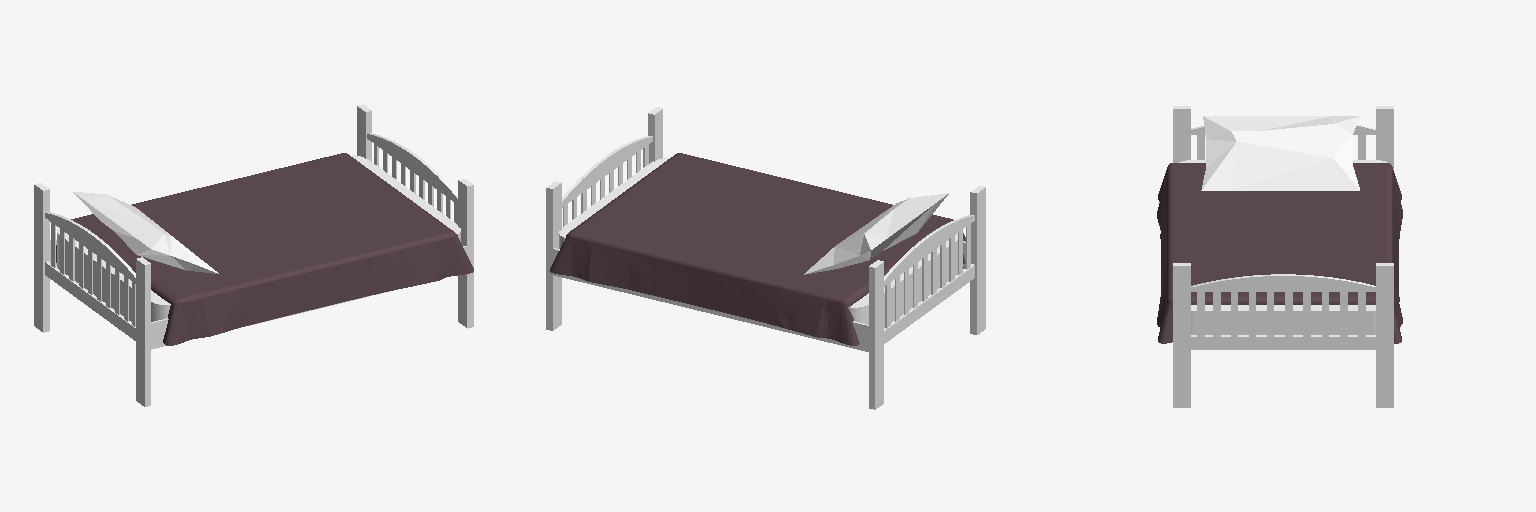
Rendered from bed.obj.
3 views of the same model, side by side, from view 1: azimuth 30°, elevation 25°; view 2: azimuth 150°, elevation 25°; view 3: azimuth 270°, elevation 25° (orthographic).
Visible parts, largest first — view 1: Mesh23 Group2 Colcha_de_cama___bed_quilt1 Model, Mesh12 bed1 Twin_Size_Bed_Frame1 Model, Mesh24 Pillow1 Model, Mesh22 Group1 Single_Matress1 Model, Mesh10 bed1 Twin_Size_Bed_Frame1 Model, Mesh11 bed1 Twin_Size_Bed_Frame1 Model; view 2: Mesh23 Group2 Colcha_de_cama___bed_quilt1 Model, Mesh12 bed1 Twin_Size_Bed_Frame1 Model, Mesh24 Pillow1 Model, Mesh22 Group1 Single_Matress1 Model, Mesh10 bed1 Twin_Size_Bed_Frame1 Model, Mesh11 bed1 Twin_Size_Bed_Frame1 Model; view 3: Mesh23 Group2 Colcha_de_cama___bed_quilt1 Model, Mesh12 bed1 Twin_Size_Bed_Frame1 Model, Mesh24 Pillow1 Model, Mesh22 Group1 Single_Matress1 Model.
Boxes of the visible parts, <box> form: Mesh23 Group2 Colcha_de_cama___bed_quilt1 Model: <box>56,153,473,345</box>; Mesh12 bed1 Twin_Size_Bed_Frame1 Model: <box>34,104,473,406</box>; Mesh24 Pillow1 Model: <box>73,192,218,273</box>; Mesh22 Group1 Single_Matress1 Model: <box>57,155,460,321</box>; Mesh10 bed1 Twin_Size_Bed_Frame1 Model: <box>45,222,135,340</box>; Mesh11 bed1 Twin_Size_Bed_Frame1 Model: <box>45,212,135,283</box>; Mesh23 Group2 Colcha_de_cama___bed_quilt1 Model: <box>550,153,965,345</box>; Mesh12 bed1 Twin_Size_Bed_Frame1 Model: <box>546,107,985,409</box>; Mesh24 Pillow1 Model: <box>804,193,948,274</box>; Mesh22 Group1 Single_Matress1 Model: <box>559,158,957,327</box>; Mesh10 bed1 Twin_Size_Bed_Frame1 Model: <box>884,264,974,343</box>; Mesh11 bed1 Twin_Size_Bed_Frame1 Model: <box>884,215,974,286</box>; Mesh23 Group2 Colcha_de_cama___bed_quilt1 Model: <box>1157,163,1402,343</box>; Mesh12 bed1 Twin_Size_Bed_Frame1 Model: <box>1173,106,1393,407</box>; Mesh24 Pillow1 Model: <box>1201,116,1359,190</box>; Mesh22 Group1 Single_Matress1 Model: <box>1179,160,1387,334</box>.
Bounding box in the file's own units: 86.49 × 36.15 × 56.11.